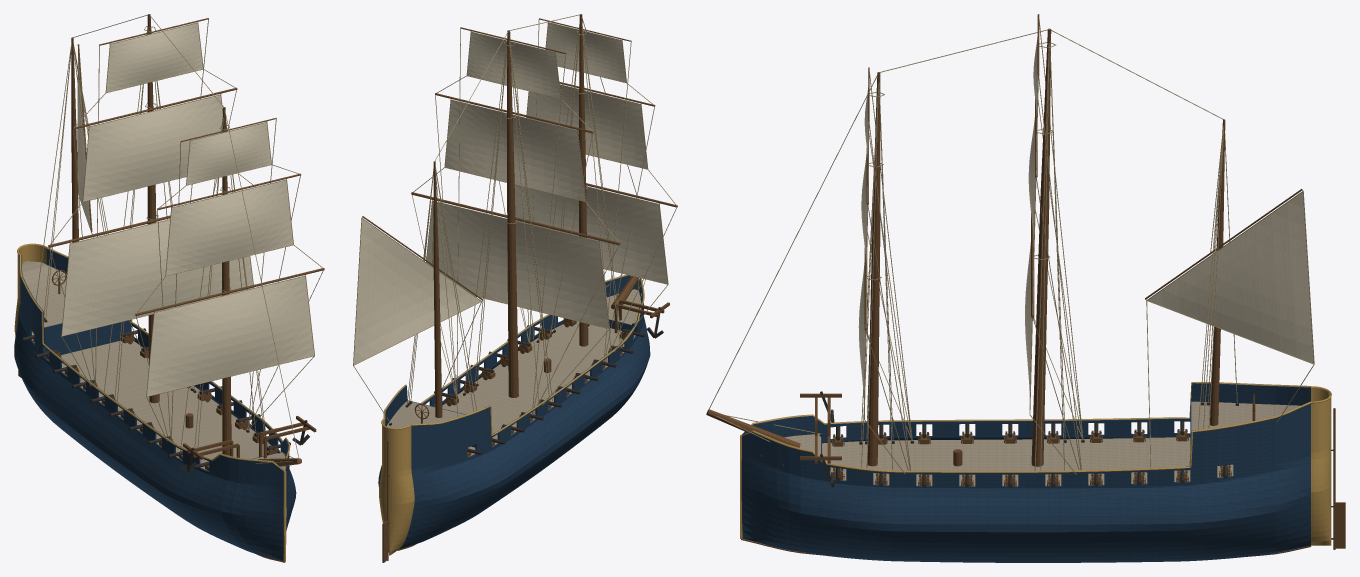
3 views of the same model, side by side, from view 1: azimuth 30°, elevation 25°; view 2: azimuth 150°, elevation 25°; view 3: azimuth 270°, elevation 25° (orthographic). The views are drawn at different scales.
Visible parts, largest first — view 1: lod1_hull_shell_starboard, lod1_fore_square_00, lod1_main_square_00, lod1_main_square_01, lod1_main_deck, lod1_fore_square_01, lod1_main_square_02, lod1_fore_square_02, lod1_hull_shell_port, lod1_castle_deck_0, lod1_castle_bulkhead_0_1, lod1_mizzen (+9 smaller); view 2: lod1_hull_shell_starboard, lod1_main_square_00, lod1_mizzen_lateen_00, lod1_main_square_01, lod1_fore_square_00, lod1_main_deck, lod1_fore_square_01, lod1_main_square_02, lod1_stern_closure, lod1_main, lod1_fore_square_02, lod1_hull_shell_port (+16 smaller); view 3: lod1_hull_shell_port, lod1_mizzen_lateen_00, lod1_main_deck, lod1_hull_shell_starboard, lod1_main, lod1_stern_closure, lod1_fore, lod1_castle_deck_0, lod1_gunwale_port, lod1_mizzen, lod1_gunwale_starboard.
Part boxes in pixels (left/top/right/bottom): lod1_hull_shell_starboard: left=14, top=255, right=283, bottom=560; lod1_fore_square_00: left=147, top=276, right=314, bottom=396; lod1_main_square_00: left=62, top=220, right=253, bottom=335; lod1_main_square_01: left=83, top=95, right=222, bottom=201; lod1_main_deck: left=32, top=331, right=270, bottom=470; lod1_fore_square_01: left=166, top=180, right=293, bottom=275; lod1_main_square_02: left=106, top=23, right=202, bottom=92; lod1_fore_square_02: left=186, top=122, right=271, bottom=184; lod1_hull_shell_port: left=46, top=248, right=296, bottom=530; lod1_castle_deck_0: left=22, top=261, right=66, bottom=327; lod1_castle_bulkhead_0_1: left=44, top=320, right=129, bottom=357; lod1_mizzen: left=71, top=37, right=78, bottom=242; lod1_hull_shell_starboard: left=399, top=278, right=650, bottom=549; lod1_main_square_00: left=426, top=201, right=609, bottom=328; lod1_mizzen_lateen_00: left=353, top=219, right=480, bottom=364; lod1_main_square_01: left=445, top=100, right=585, bottom=201; lod1_fore_square_00: left=514, top=185, right=667, bottom=283; lod1_main_deck: left=389, top=321, right=635, bottom=474; lod1_fore_square_01: left=527, top=85, right=647, bottom=168; lod1_main_square_02: left=467, top=32, right=560, bottom=98; lod1_stern_closure: left=379, top=419, right=414, bottom=555; lod1_main: left=507, top=30, right=518, bottom=397; lod1_fore_square_02: left=546, top=23, right=626, bottom=82; lod1_hull_shell_port: left=378, top=275, right=637, bottom=488; lod1_hull_shell_port: left=741, top=403, right=1310, bottom=562; lod1_mizzen_lateen_00: left=1148, top=192, right=1313, bottom=363; lod1_main_deck: left=822, top=437, right=1233, bottom=486; lod1_hull_shell_starboard: left=741, top=383, right=1310, bottom=443; lod1_main: left=1031, top=28, right=1051, bottom=466; lod1_stern_closure: left=1311, top=387, right=1331, bottom=545; lod1_fore: left=867, top=72, right=880, bottom=466; lod1_castle_deck_0: left=1191, top=401, right=1300, bottom=430; lod1_gunwale_port: left=741, top=401, right=1311, bottom=472; lod1_mizzen: left=1210, top=119, right=1225, bottom=425; lod1_gunwale_starboard: left=741, top=382, right=1310, bottom=434.
Bounding box in the file's own units: 17.74 × 36.74 × 39.96.
Materials: 7 (7 with a texture image).
